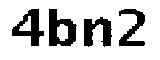2: (115, 2, 152, 54)
4: (9, 5, 45, 52)
b: (47, 5, 79, 52)
n: (82, 13, 114, 50)
